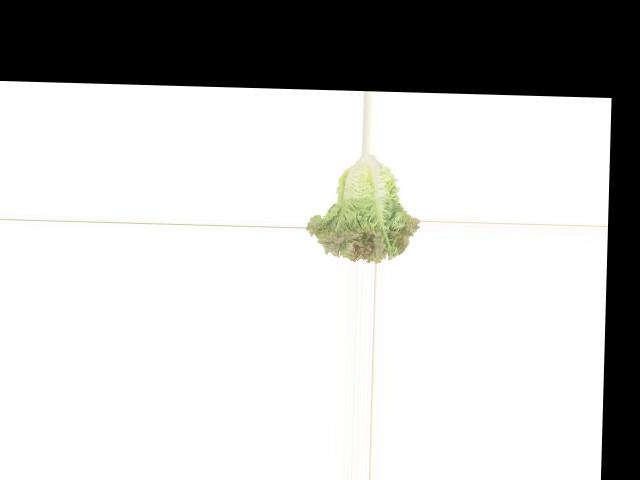lettuce: (305, 152, 420, 263)
